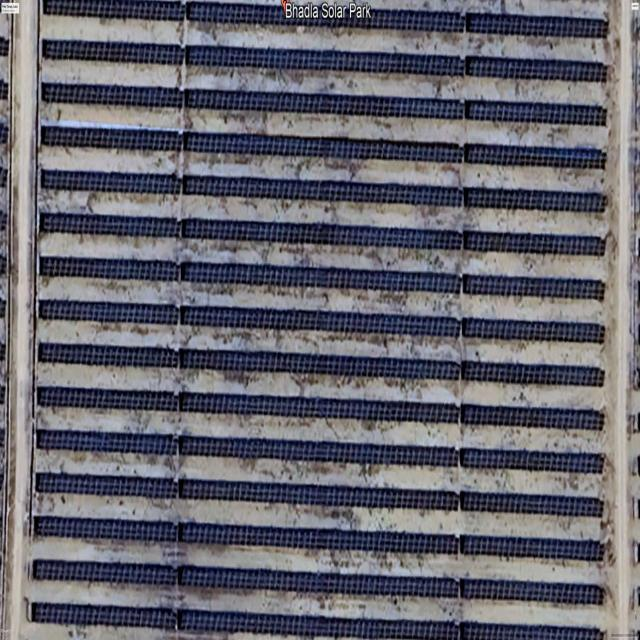Solar Panels: (32, 559, 605, 606), (36, 429, 604, 474), (35, 472, 603, 517), (38, 256, 605, 301), (40, 212, 606, 257), (38, 299, 605, 343), (37, 343, 604, 387), (37, 387, 604, 431), (41, 125, 607, 169), (41, 169, 607, 213), (42, 83, 607, 126), (42, 40, 607, 82), (31, 602, 604, 640), (43, 0, 608, 37), (34, 516, 458, 555), (463, 535, 604, 561)
